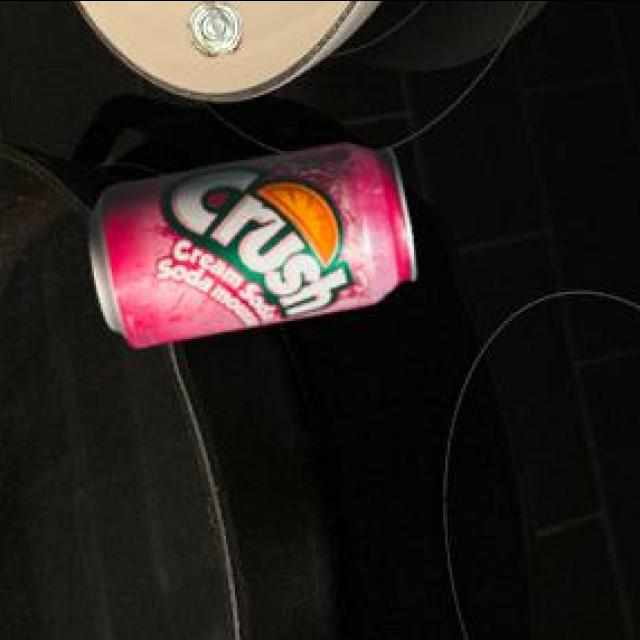logam: (86, 147, 413, 350), (185, 3, 238, 59)
